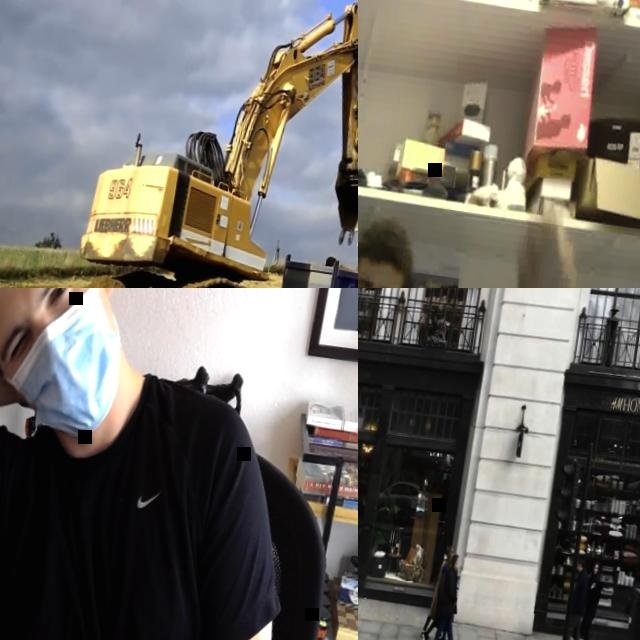Mask: (0, 288, 138, 444)
NO-Hardhat: (358, 217, 420, 279), (446, 542, 456, 555), (454, 552, 462, 563), (578, 557, 586, 566), (449, 553, 455, 563), (596, 559, 603, 567)
NO-Mask: (456, 559, 461, 569), (579, 565, 584, 572), (595, 570, 600, 575)
NO-Safety Vest: (0, 357, 243, 640), (440, 571, 459, 620), (434, 557, 449, 607), (438, 568, 450, 613)
Person: (0, 288, 351, 640), (358, 90, 597, 288), (420, 540, 459, 640), (432, 553, 475, 640), (422, 552, 464, 640), (560, 556, 596, 640), (576, 556, 608, 640)
machinery: (70, 0, 358, 288)
